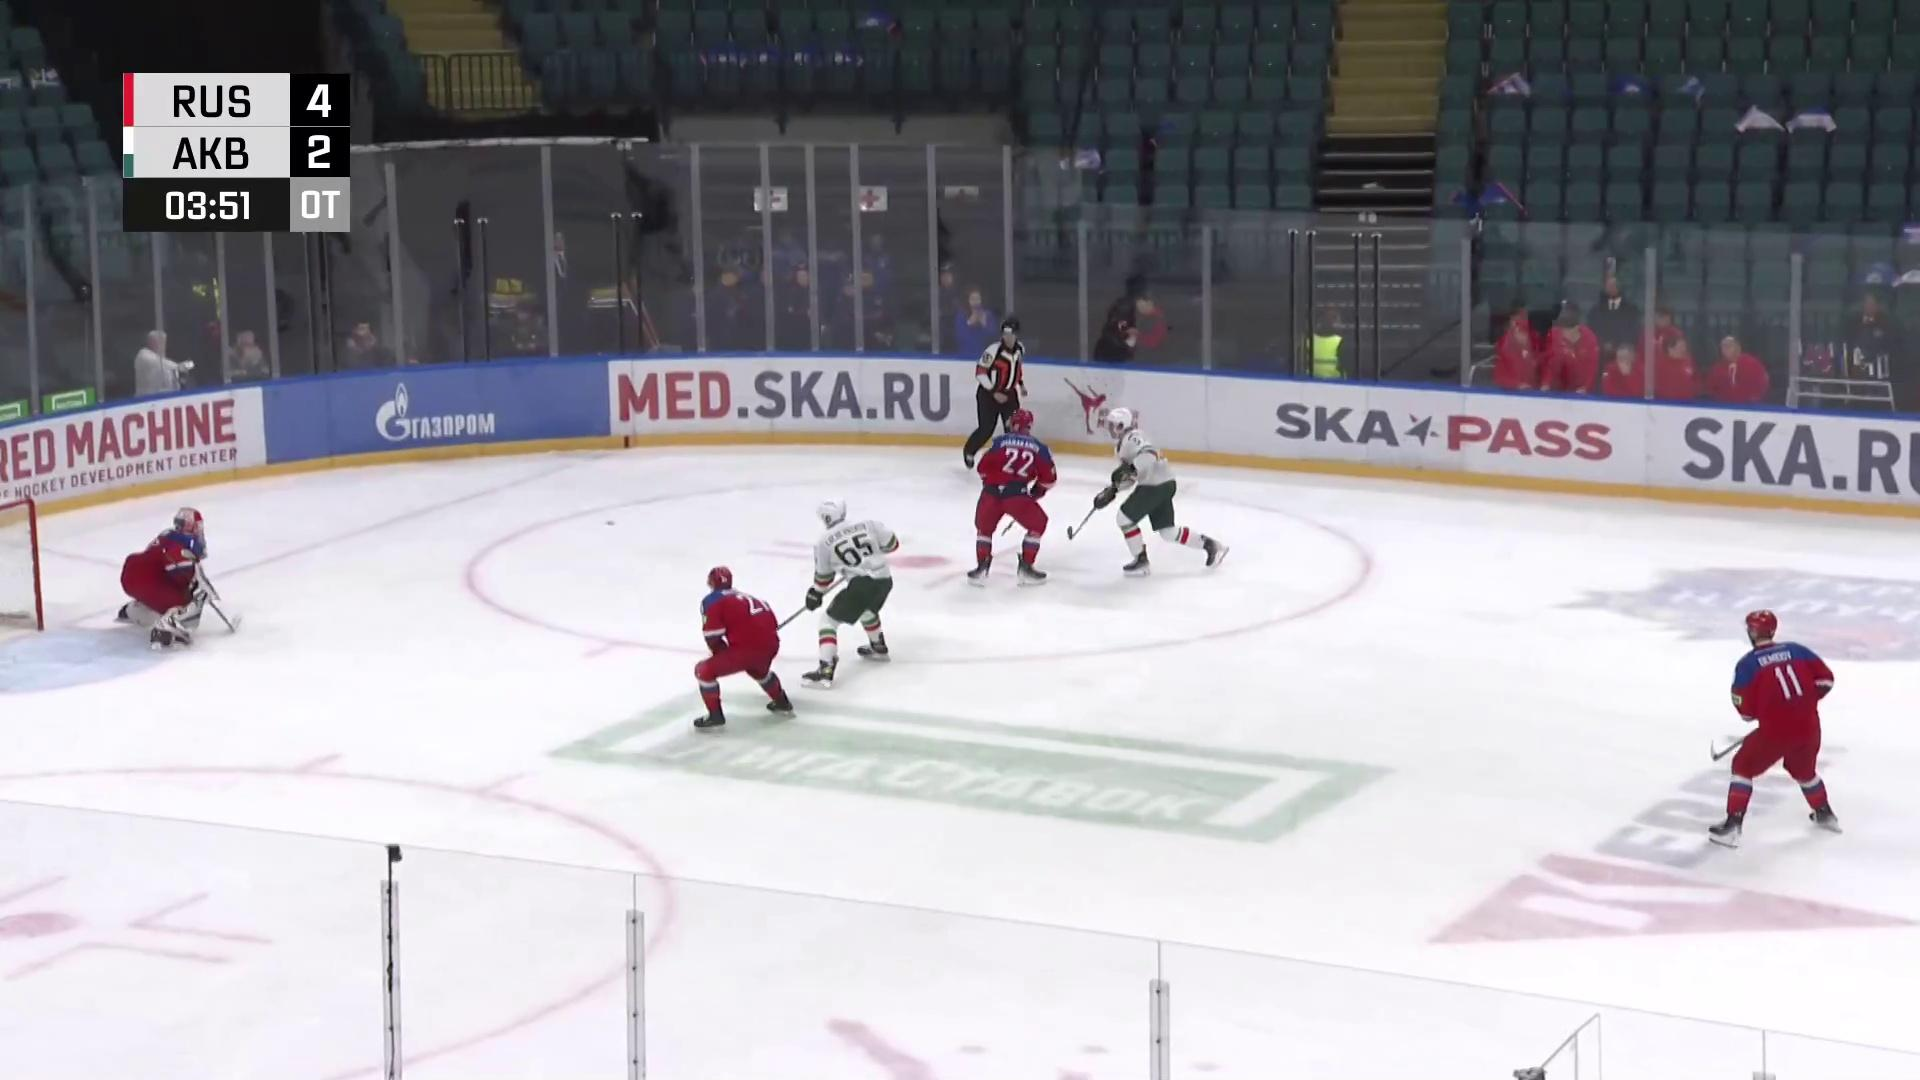ball: (605, 520, 615, 527)
